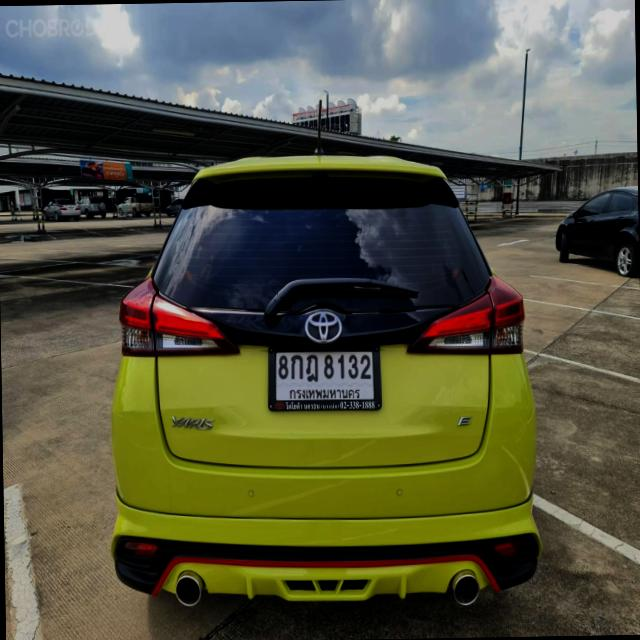license_plate: (266, 338, 384, 415)
